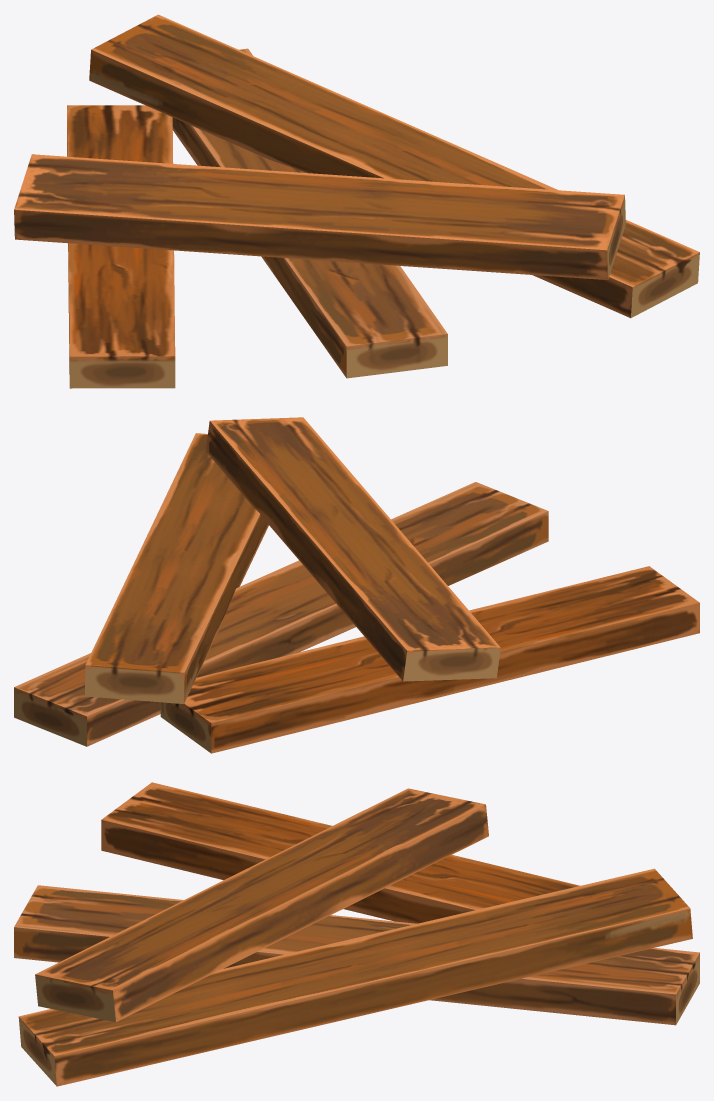
Rendered from resource_planks.fbx.
3 renders of one model, top to bottom at view 1: azimuth 30°, elevation 25°; view 2: azimuth 150°, elevation 25°; view 3: azimuth 270°, elevation 25°, orthographic. The views are drawn at different scales.
Visible parts, largest first — view 1: resource_planks; view 2: resource_planks; view 3: resource_planks.
Boxes of the visible parts, bbox=[...] form: resource_planks: bbox=[14, 14, 699, 388]; resource_planks: bbox=[14, 417, 699, 753]; resource_planks: bbox=[14, 782, 699, 1086].
Size of the model in its own units: 143 by 19.13 by 151.
